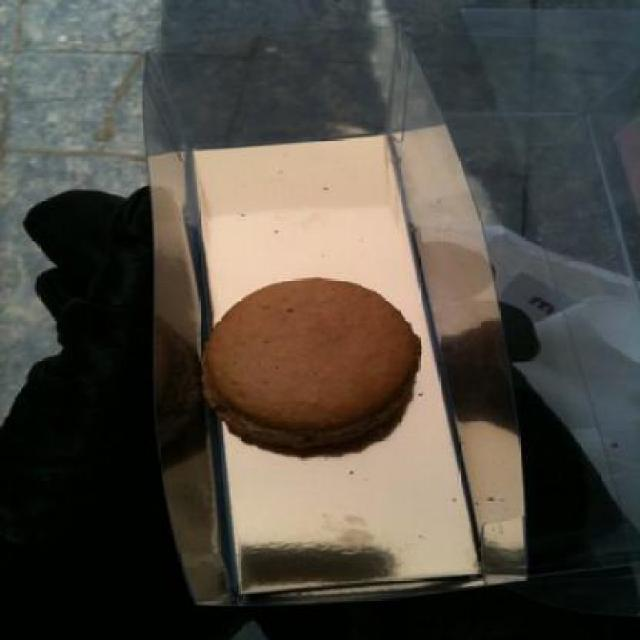Macaron: (191, 270, 424, 468)
